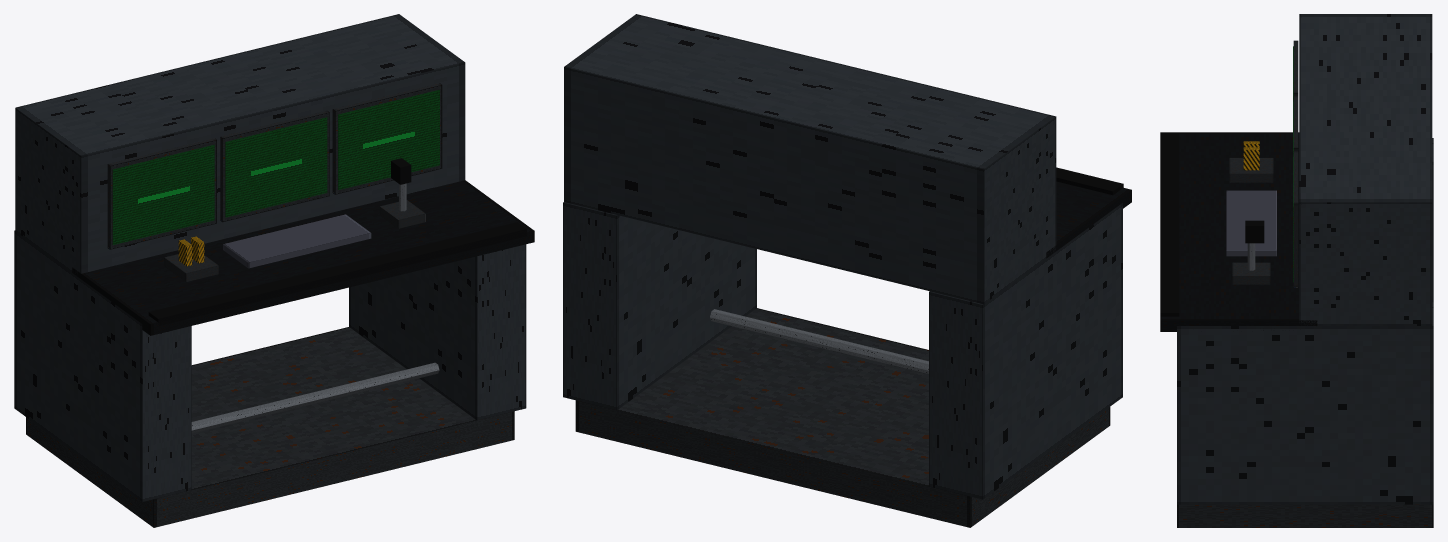
File: nav_console.glb
3 views of the same model, side by side, from view 1: azimuth 30°, elevation 25°; view 2: azimuth 150°, elevation 25°; view 3: azimuth 270°, elevation 25° (orthographic). The views are drawn at different scales.
Parts seen in each view (by area): view 1: nav_console; view 2: nav_console; view 3: nav_console.
Boxes of the visible parts, <box> form: nav_console: <box>14,14,534,527</box>; nav_console: <box>563,14,1131,527</box>; nav_console: <box>1160,14,1433,527</box>.
Size of the model in its own units: 1.4 by 1.15 by 0.8598.
Materials: 1 (1 with a texture image).
